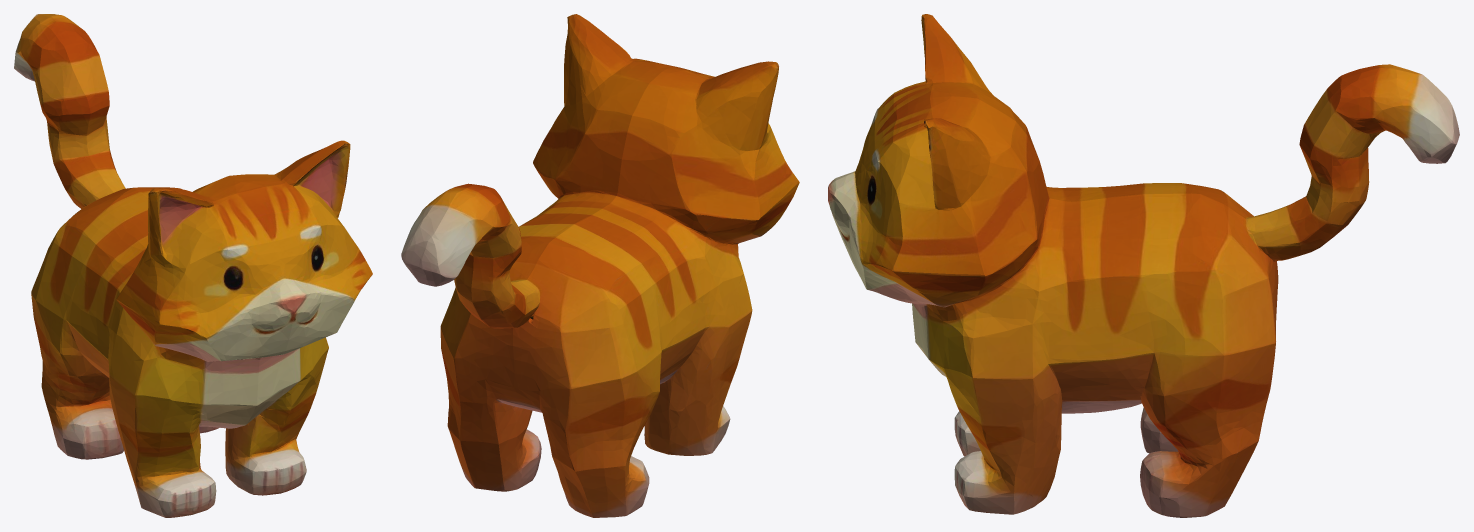
Rendered from gato.glb.
The picture shows the model from 3 angles, left to right: view 1: azimuth 30°, elevation 25°; view 2: azimuth 150°, elevation 25°; view 3: azimuth 270°, elevation 25°; orthographic projection. The views are drawn at different scales.
Parts seen in each view (by area): view 1: geometry_0; view 2: geometry_0; view 3: geometry_0.
Boxes of the visible parts, x1,y1,x2,y2 form: geometry_0: [14, 14, 372, 517]; geometry_0: [401, 14, 799, 517]; geometry_0: [828, 14, 1459, 517].
Bounding box in the file's own units: 0.4589 × 0.7092 × 0.9988.
1 material, 1 textured.
